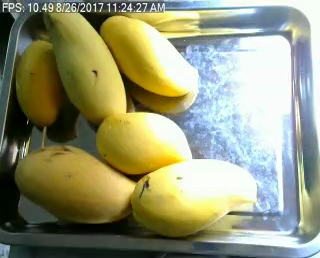Mango: (13, 143, 142, 223), (42, 2, 126, 124), (128, 159, 255, 235), (99, 15, 199, 97), (97, 113, 193, 176), (17, 41, 63, 126)
